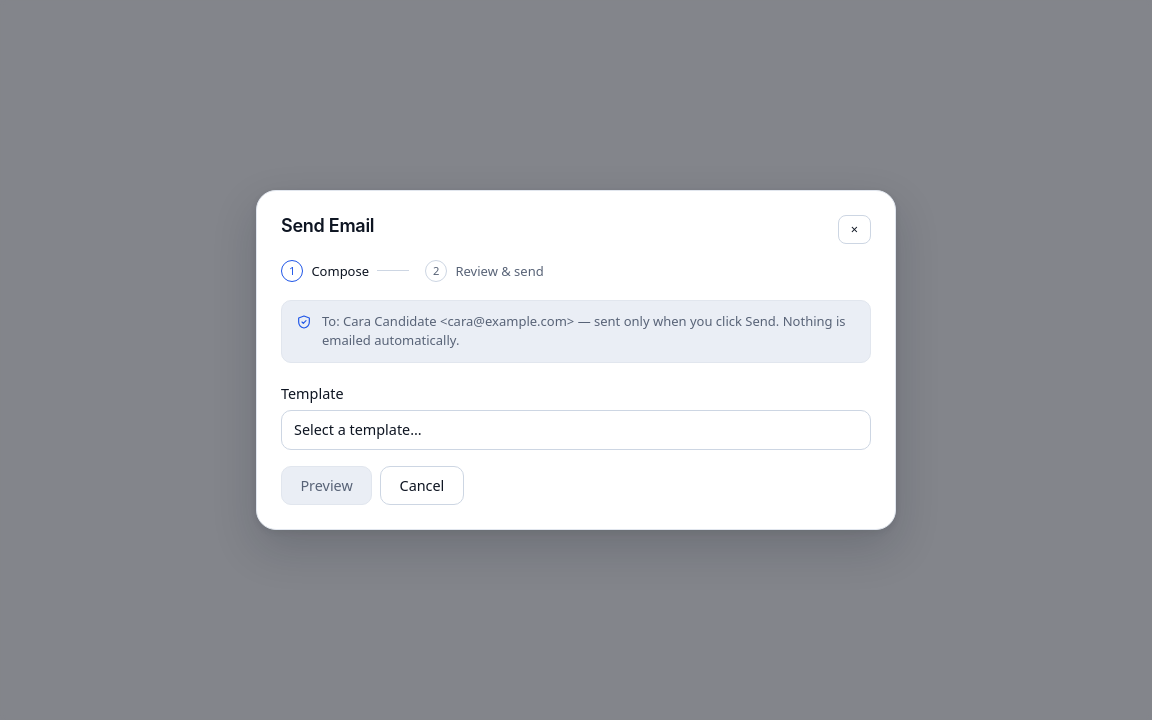
Scenario: EmailComposerModal › loads the chosen template with the known details filled in
This screenshot has width=1152, height=720.
Select "Application received" in the dropdown labelled "Template" at (576, 430), box [281,410,871,450]
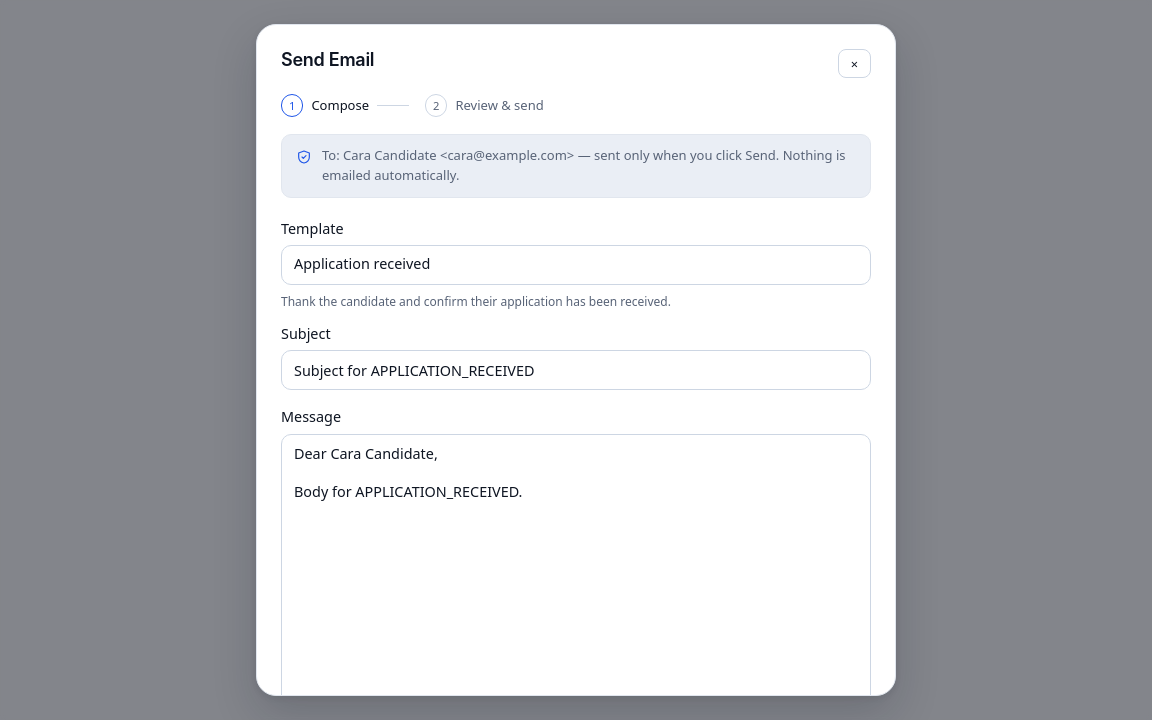
Now the field showing "Subject for APPLICATION_RECEIVED" is shown, box [281,350,871,390]
